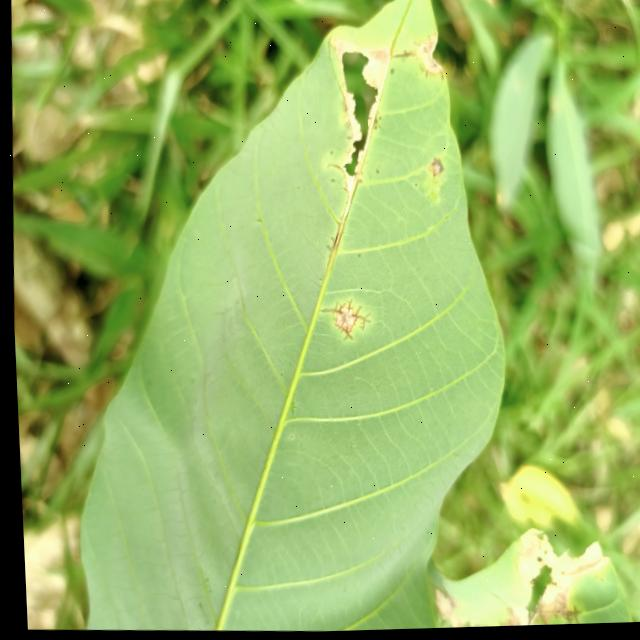Corynespora: (314, 297, 371, 342), (554, 608, 577, 628), (390, 49, 417, 64)
Leaf-Blight: (327, 35, 397, 198), (505, 526, 607, 629), (464, 605, 531, 630), (413, 35, 443, 77)
